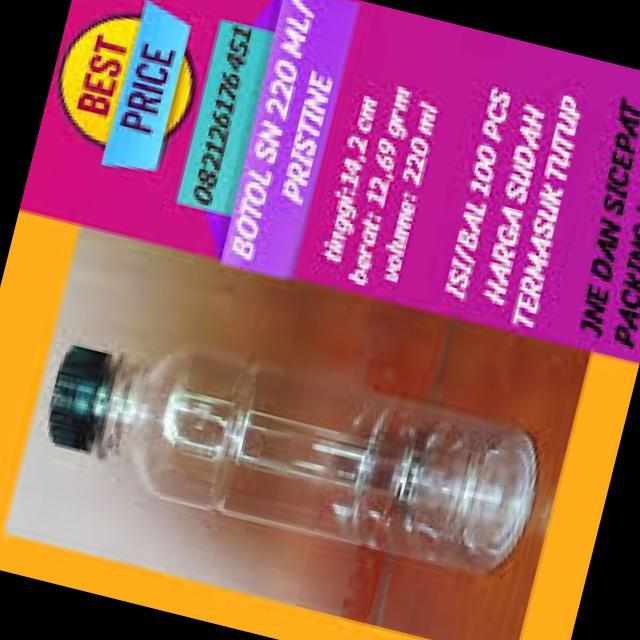good: (18, 299, 544, 614)
